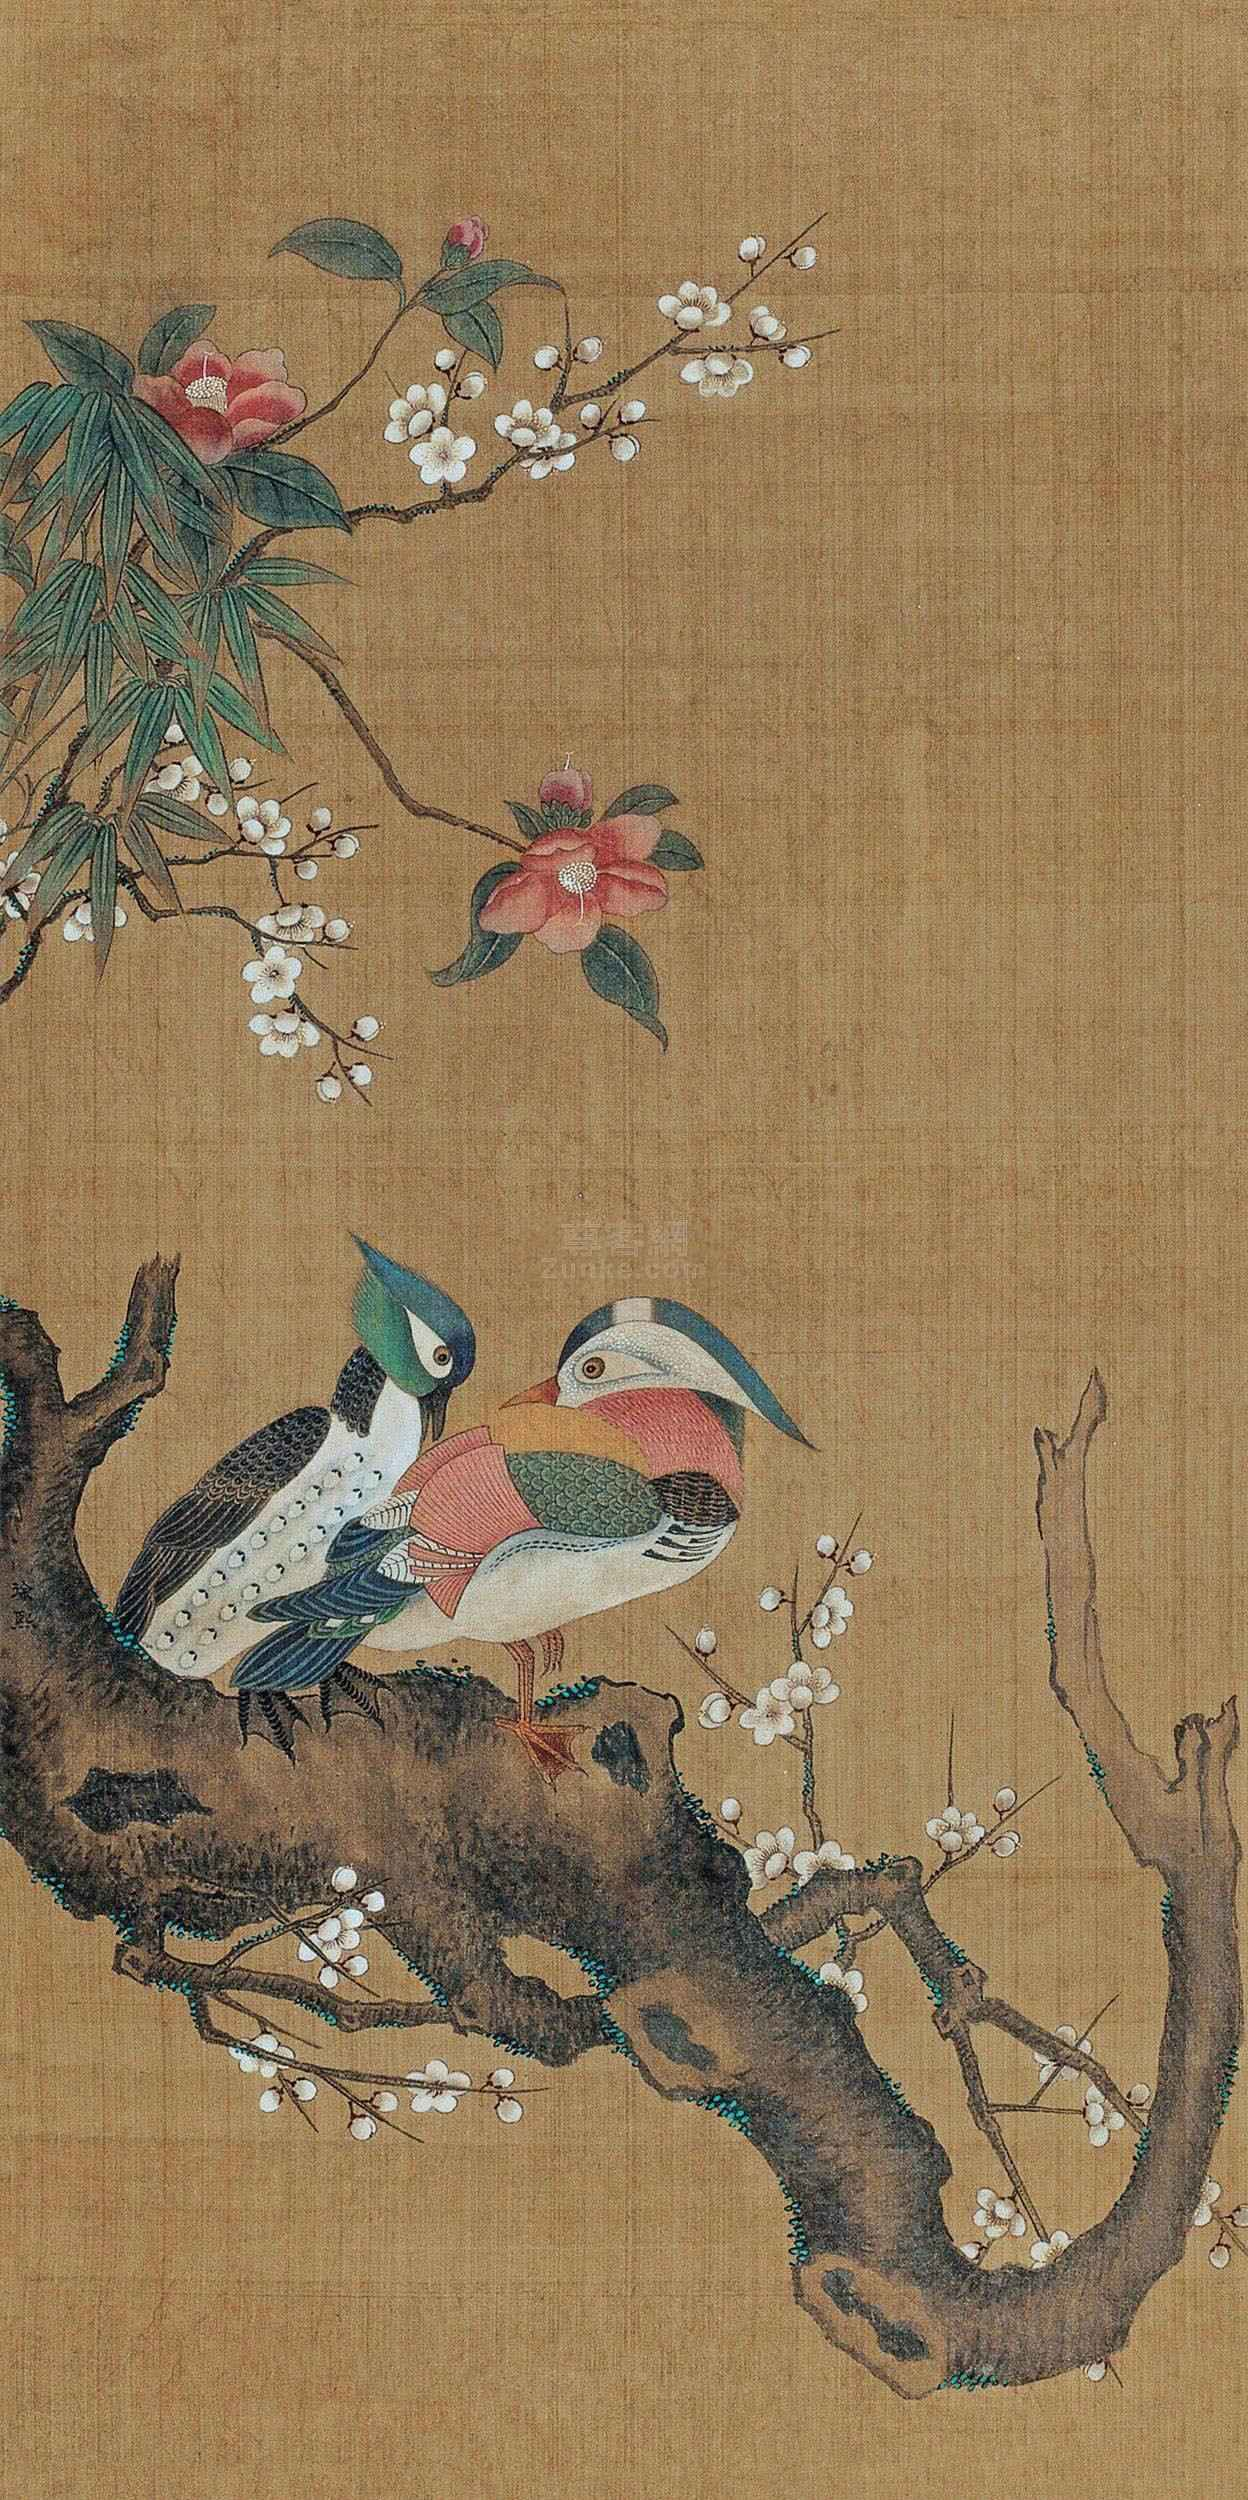bird: (120, 1244, 830, 1773)
flower: (10, 195, 881, 1135), (706, 1575, 1151, 2242), (217, 1877, 569, 2239)
